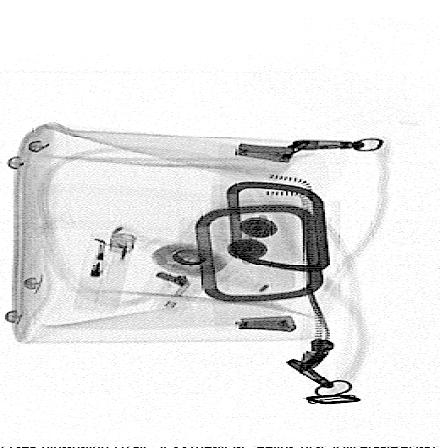Lighter: (72, 232, 140, 313)
